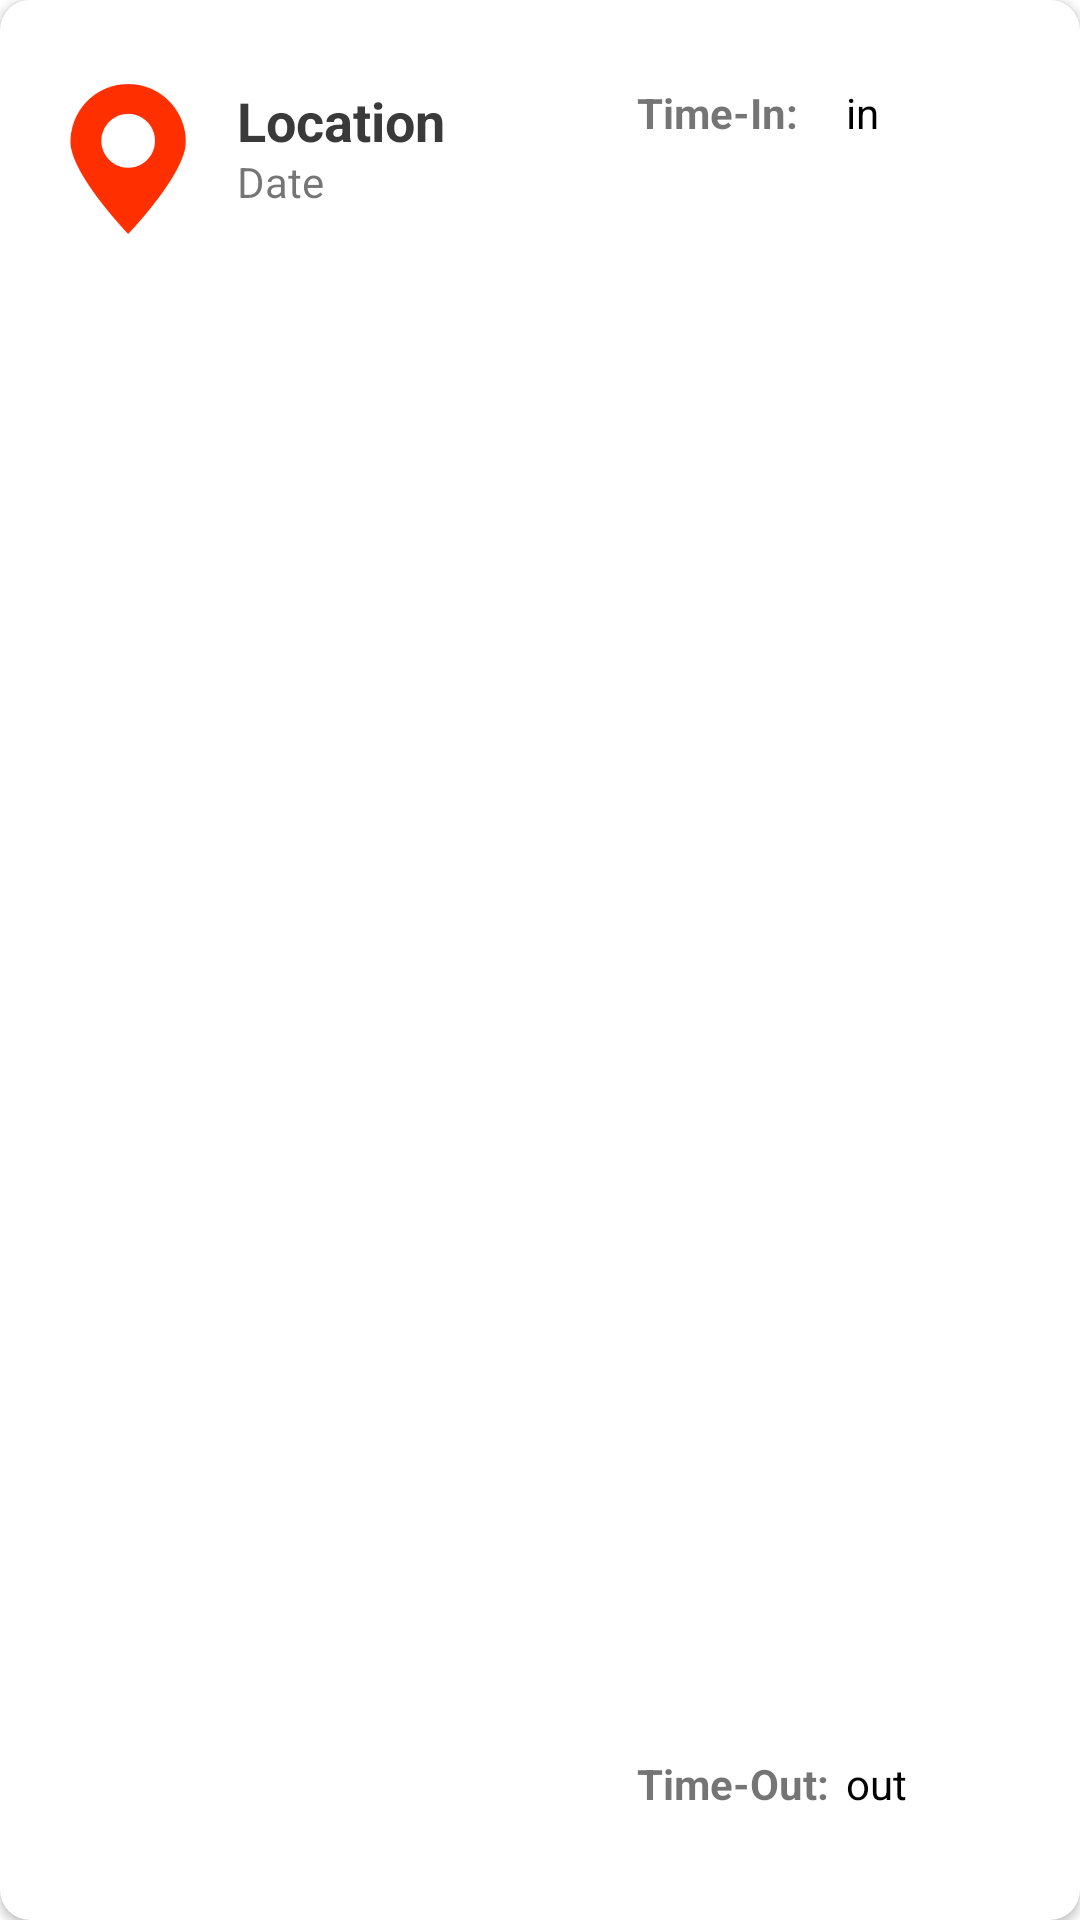

Icons on this 1080×1920 Android screen, each with the point to tap as [x,y]:
pinloc: [128,159]
